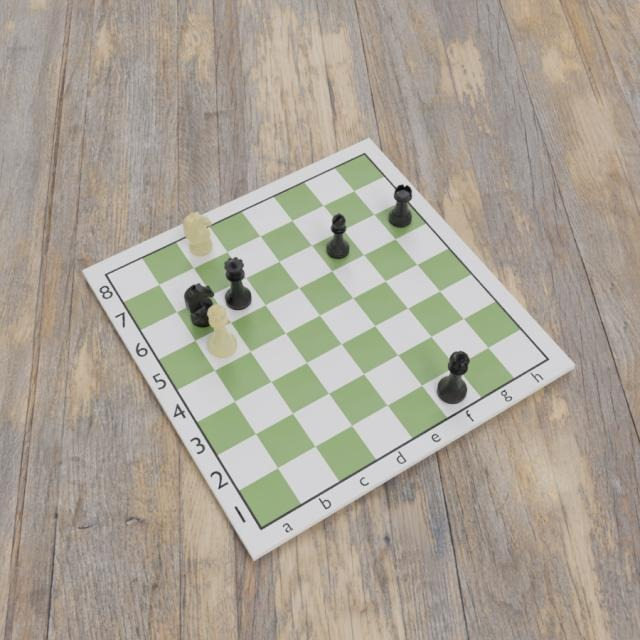black-bishop: (326, 211, 349, 260)
black-king: (434, 351, 470, 405)
black-knight: (184, 279, 216, 328)
black-queen: (223, 256, 252, 312)
black-rook: (387, 182, 413, 229)
white-king: (207, 301, 239, 358)
white-knight: (182, 211, 214, 256)
